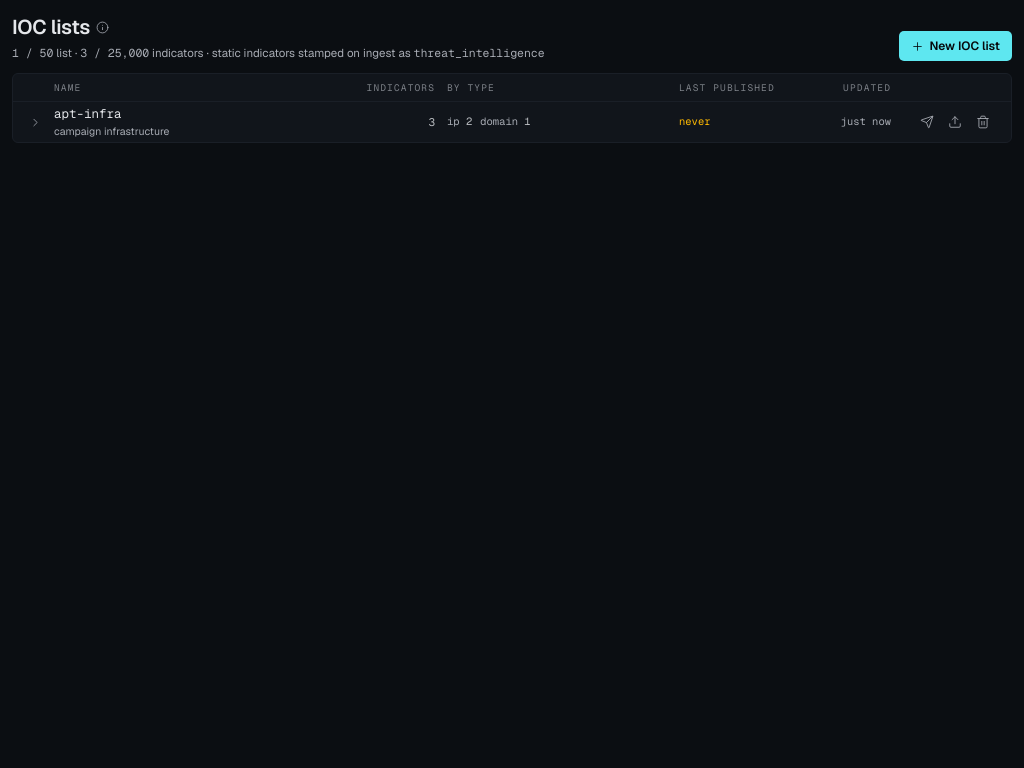
Scenario: IocLists › shows usage against tenant limits and upload maximum
Expected: the text "1 / 50" is shown, [12,45,53,60]
Expected: the text "3 / 25,000" is shown, [80,45,149,60]
Click the button "New IOC list" at (955, 46), box [898,31,1012,61]
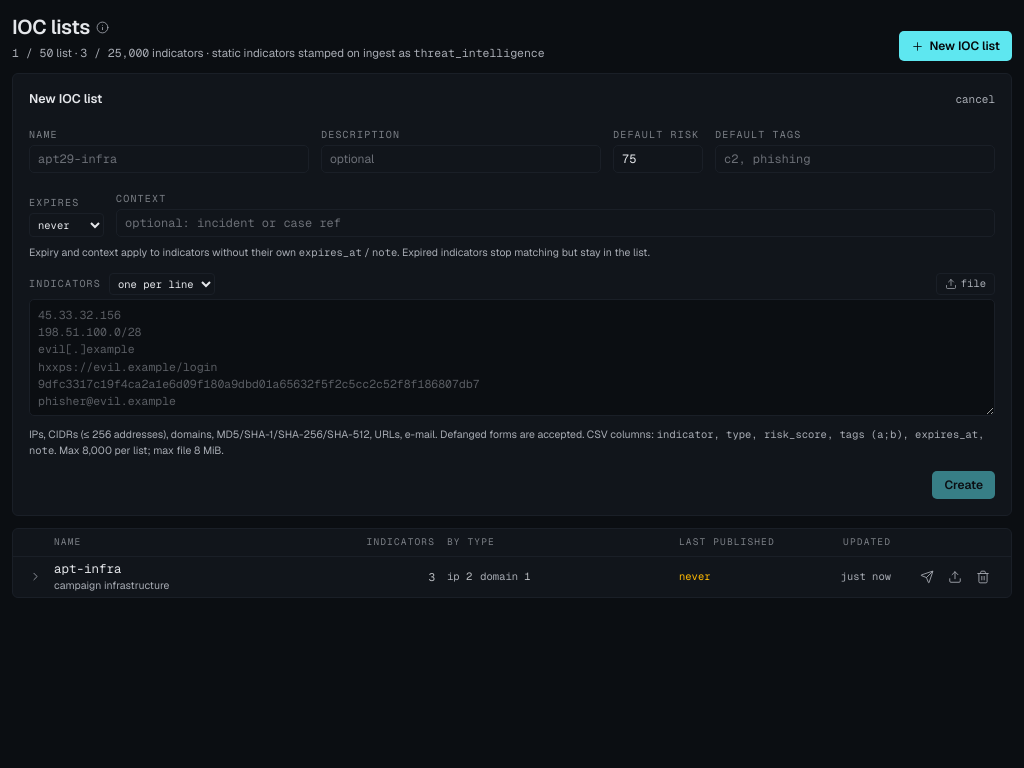
Result: the text "max file 8 MiB" is shown at [29,427,995,459]
